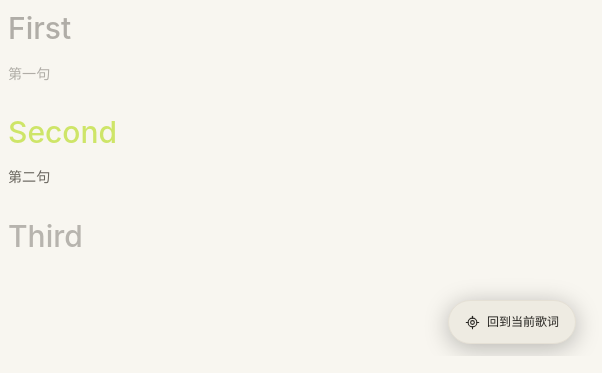
Test: 手动浏览后换句不拉回，点击跟随回到当前句
Click the button with class "lyrics-resume" at (512, 322), box [448,300,576,344]
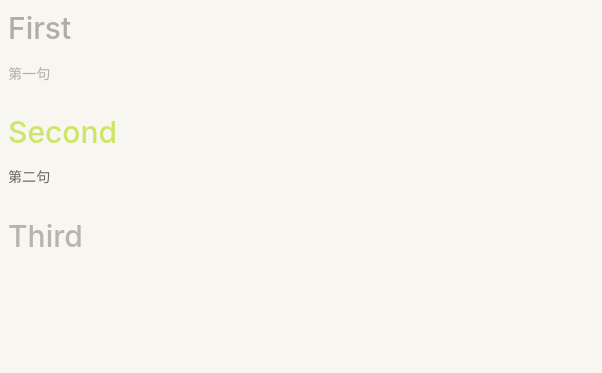
Now the button with class "lyrics-resume" is gone
